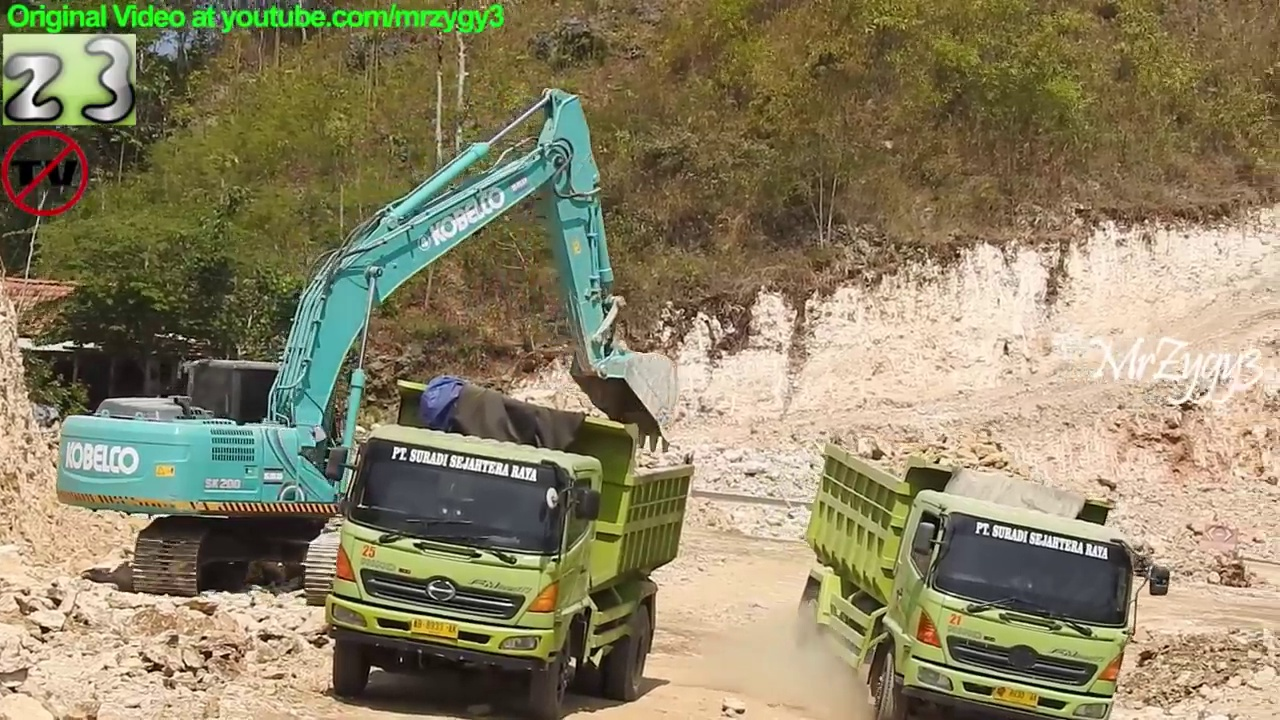excavator: (50, 82, 686, 612)
truck: (320, 371, 701, 720), (789, 437, 1180, 720)
